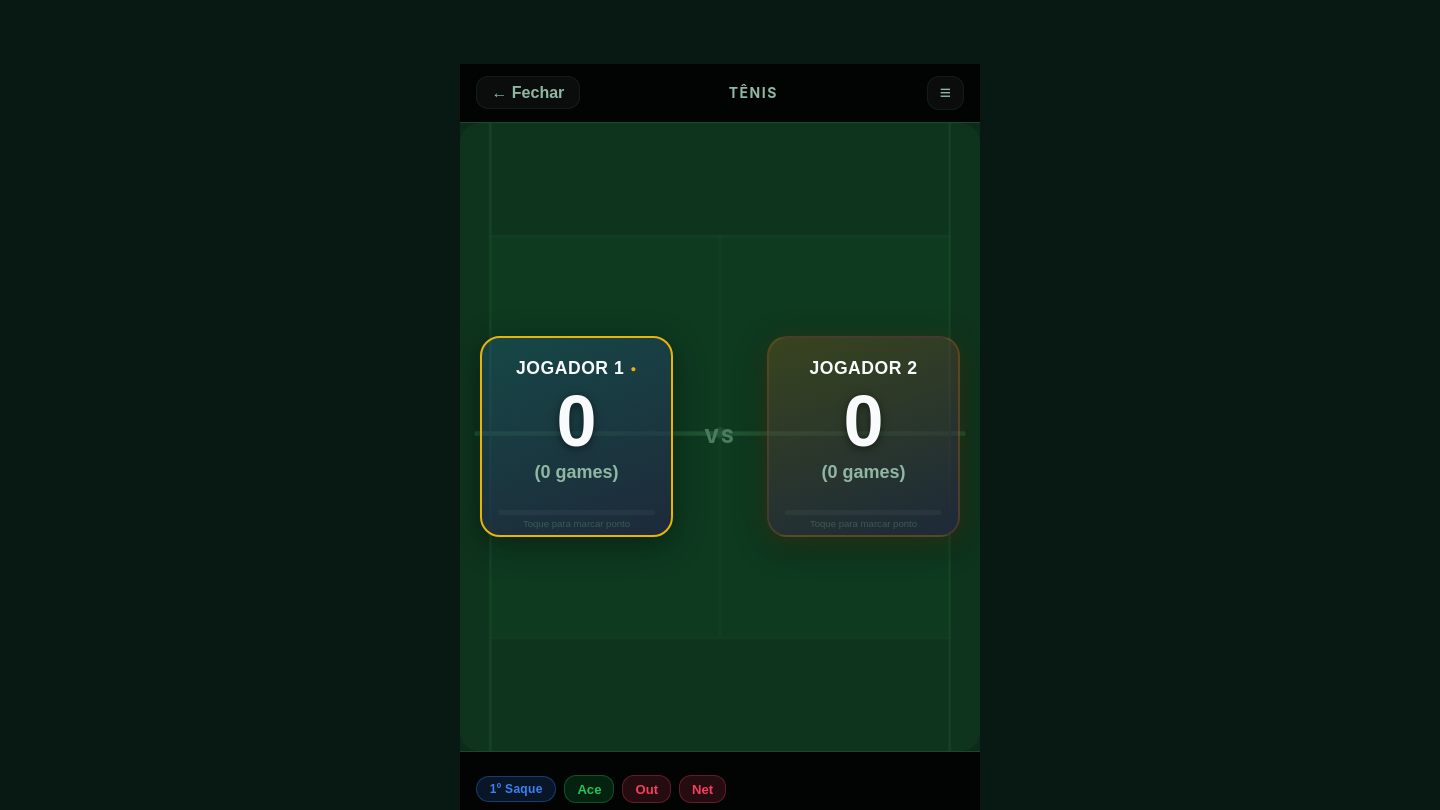
ScoreboardV2 - Ace Button Behavior › Ace button functionality › allows canceling the ServerEffectModal without adding point
Expected: the text "Jogador 1" is shown, [516,358,624,378]
Click Ace button
Click the button "Ace" at (589, 789), box [564,775,614,803]
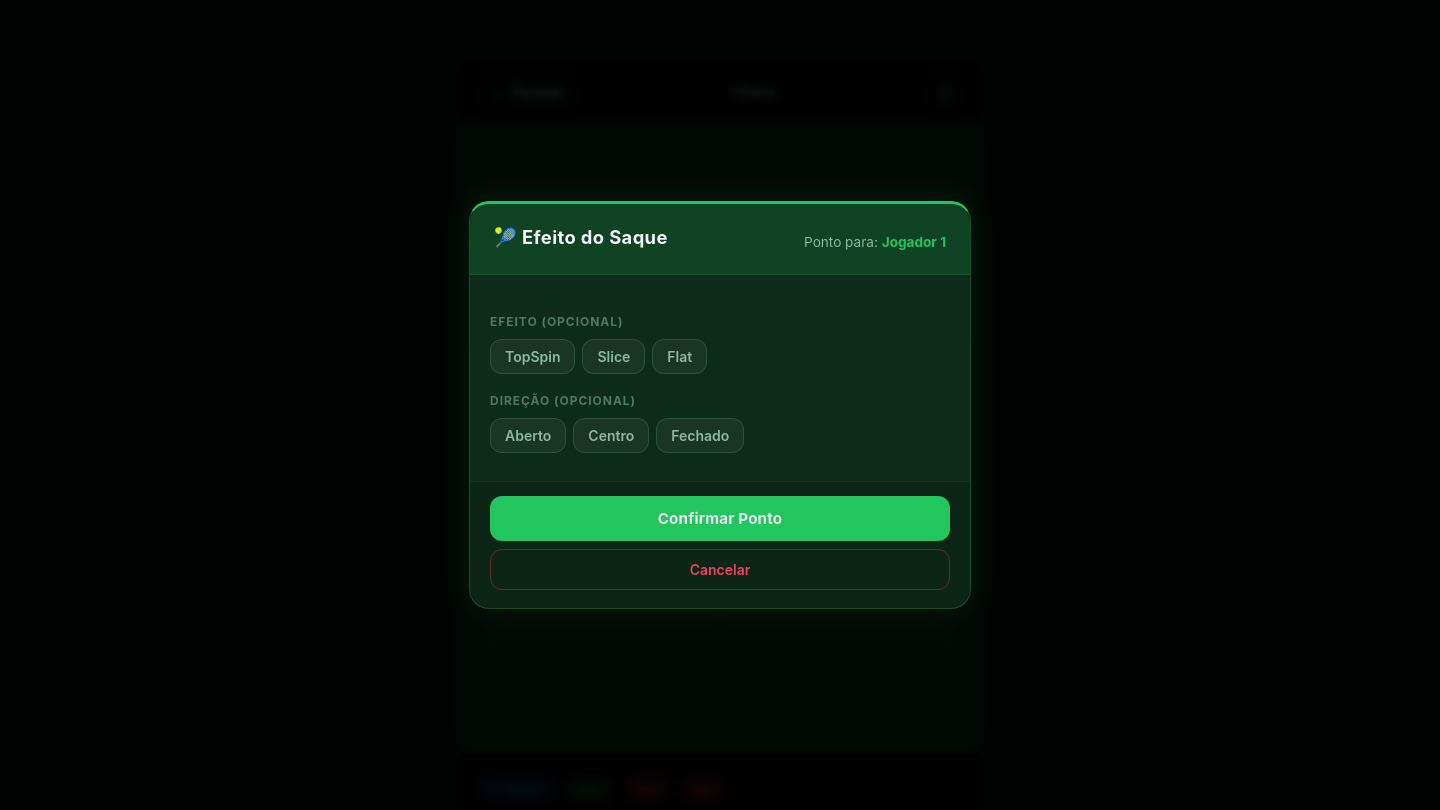
Now the element with test id "server-effect-modal" is shown, box [469,201,971,609]
Click the button with aria-label "Cancel ServerEffect" at (720, 569), box [490,549,950,590]
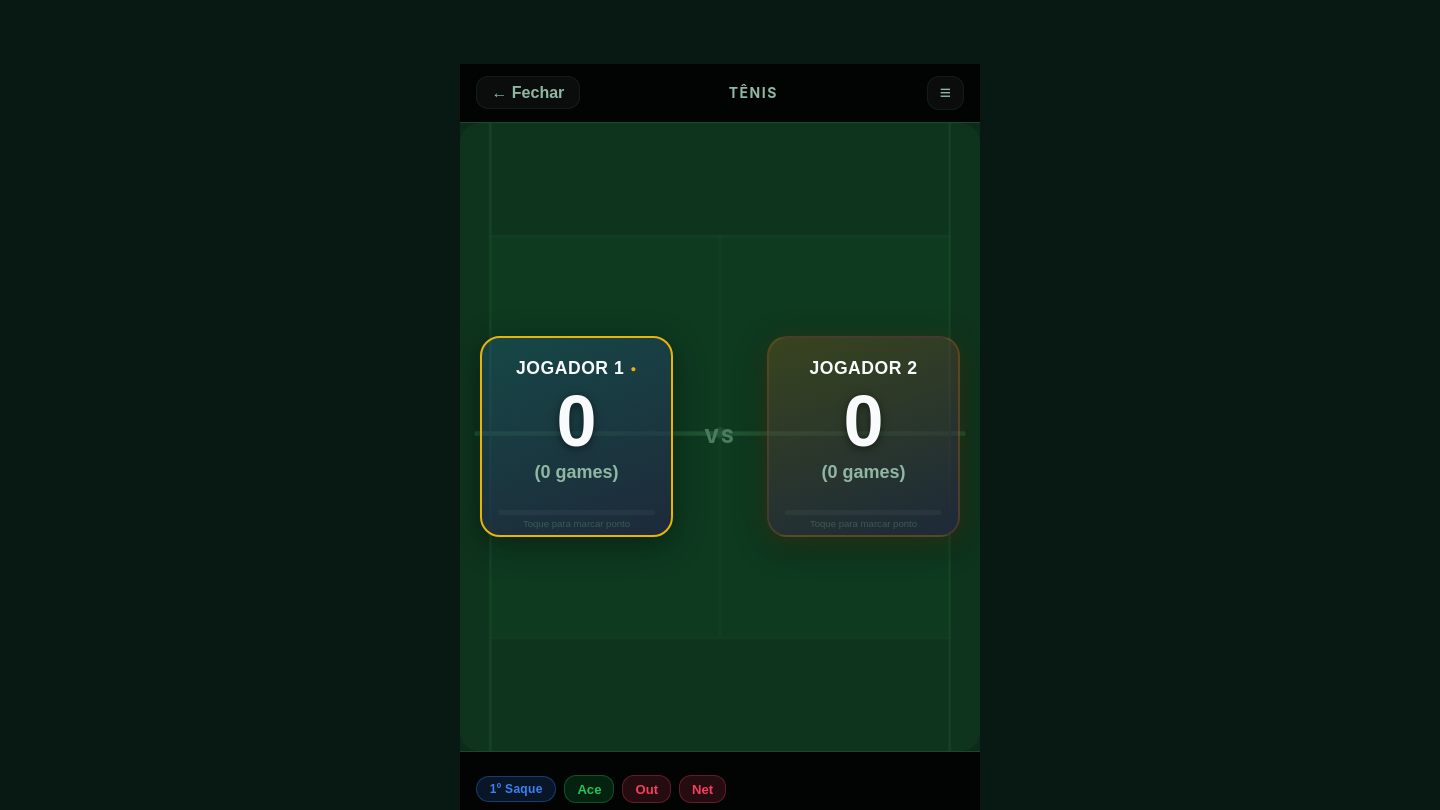
Now the element with test id "server-effect-modal" is gone
